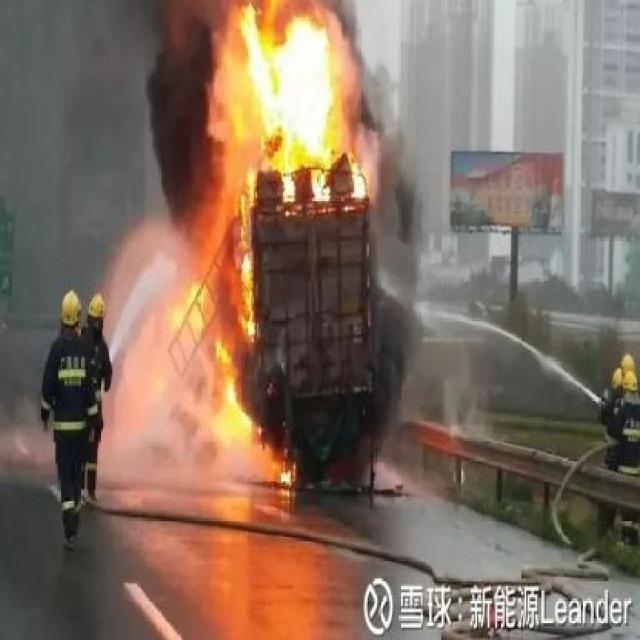Fire: (243, 9, 334, 165), (167, 277, 216, 368), (238, 162, 256, 346), (216, 342, 236, 408), (352, 158, 370, 198), (314, 167, 328, 198), (278, 461, 294, 484), (238, 407, 252, 433), (283, 168, 294, 200)
Smoke: (149, 3, 242, 240), (370, 65, 424, 448)
